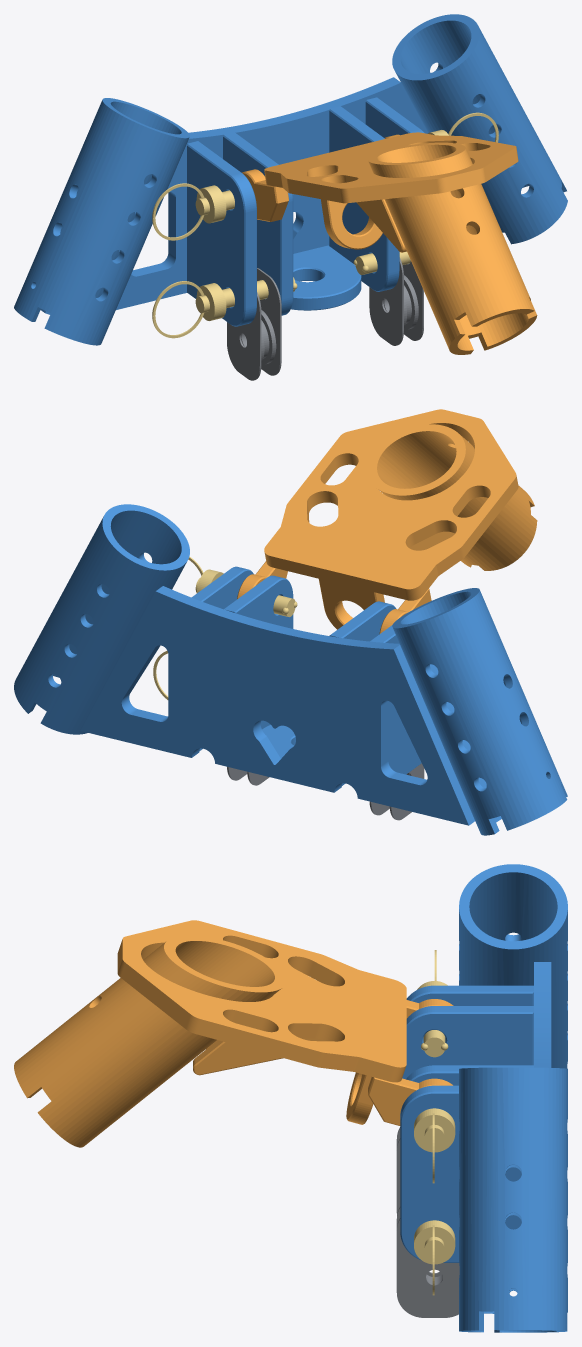
Rendered from cabeza_v8.glb.
3 views of the same model, one above another, from view 1: azimuth 30°, elevation 25°; view 2: azimuth 150°, elevation 25°; view 3: azimuth 270°, elevation 25° (orthographic). The views are drawn at different scales.
Visible parts, largest first — view 1: c_02a, g_06, c_02b, c_01, g_05, c_03a, c_03b, c_03c, c_PLi, c_04, c_PLd, c_P-I2i (+6 smaller); view 2: c_01, g_05, c_02a, c_02b, g_06, c_03c, c_03a, g_08, c_03b, c_03d, c_P-I1d, c_04 (+3 smaller); view 3: c_02b, g_06, g_05, c_02a, c_03d, c_03b, c_PLd, c_03a, c_01, g_09b, g_07b, c_P-I2d (+4 smaller).
Boxes of the visible parts, x1,y1,x2,y2 form: c_02a: (14,98,189,345); g_06: (367,142,537,354); c_02b: (392,14,567,244); c_01: (116,77,427,309); g_05: (264,132,518,203); c_03a: (187,141,256,326); c_03b: (223,132,293,315); c_03c: (329,106,399,291); c_PLi: (227,268,281,380); c_04: (291,245,361,310); c_PLd: (369,257,423,345); c_P-I2i: (152,277,297,338); c_01: (80,586,474,825); g_05: (264,409,518,600); c_02a: (392,588,567,835); c_02b: (14,504,189,734); g_06: (367,424,537,570); c_03c: (224,575,293,729); c_03a: (370,625,421,774); g_08: (318,579,384,629); c_03b: (329,601,396,785); c_03d: (191,566,253,751); c_P-I1d: (188,556,297,617); c_04: (262,725,295,758); c_02b: (459,1067,567,1332); g_06: (14,935,286,1147); g_05: (117,920,406,1082); c_02a: (459,864,567,1068); c_03d: (400,1085,521,1262); c_03b: (402,1006,533,1079); c_PLd: (396,1207,459,1317); c_03a: (406,985,533,1005); c_01: (534,962,551,1067); g_09b: (193,1038,326,1075); g_07b: (368,1077,452,1125); c_P-I2d: (414,1220,455,1295).
Bounding box in the file's own units: 417 × 209 × 323.
